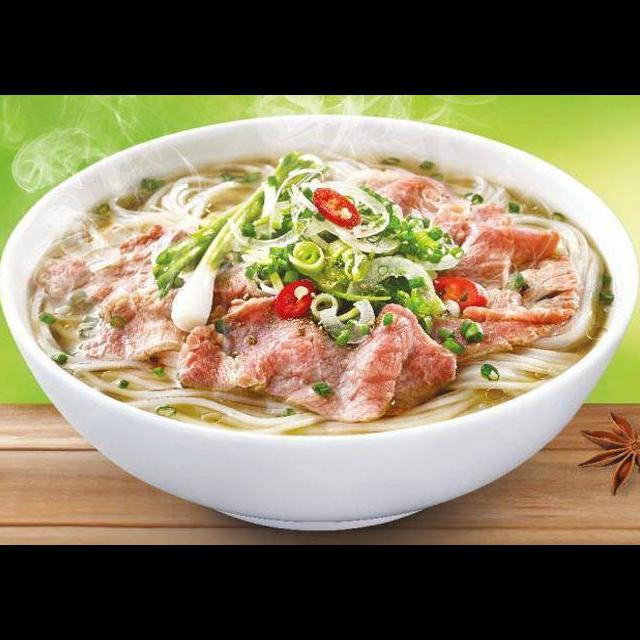banh pho: (91, 362, 318, 442), (105, 170, 263, 231), (412, 349, 591, 402), (551, 217, 608, 370)
pho bo: (0, 145, 640, 535)
thit bo: (187, 316, 447, 416), (40, 226, 202, 367), (429, 212, 579, 358)
